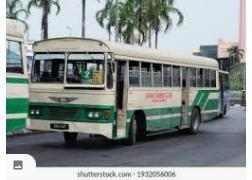bus: (26, 36, 221, 145)
